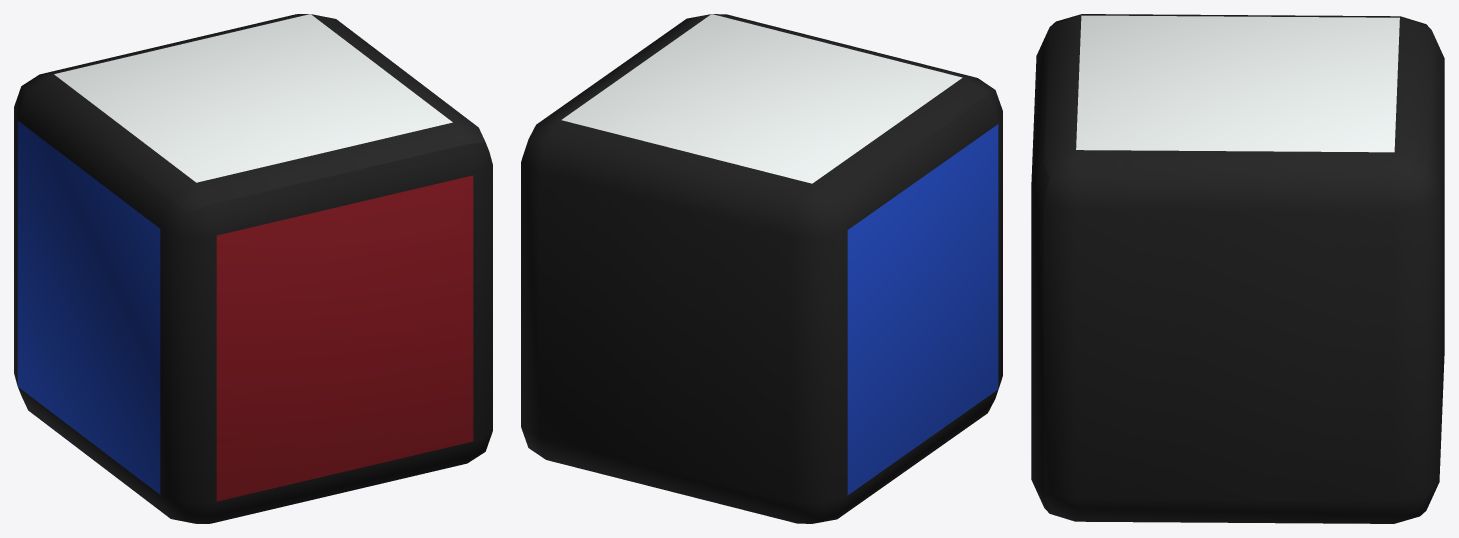
File: Piece3 1.fbx
The picture shows the model from 3 angles, left to right: view 1: azimuth 30°, elevation 25°; view 2: azimuth 150°, elevation 25°; view 3: azimuth 270°, elevation 25°; orthographic projection. The views are drawn at different scales.
Parts seen in each view (by area): view 1: RPiece3; view 2: RPiece3; view 3: RPiece3.
Boxes of the visible parts, <box> form: RPiece3: <box>14,14,492,523</box>; RPiece3: <box>521,14,1002,523</box>; RPiece3: <box>1031,14,1444,523</box>.
Size of the model in its own units: 43.92 by 43.37 by 43.92.
